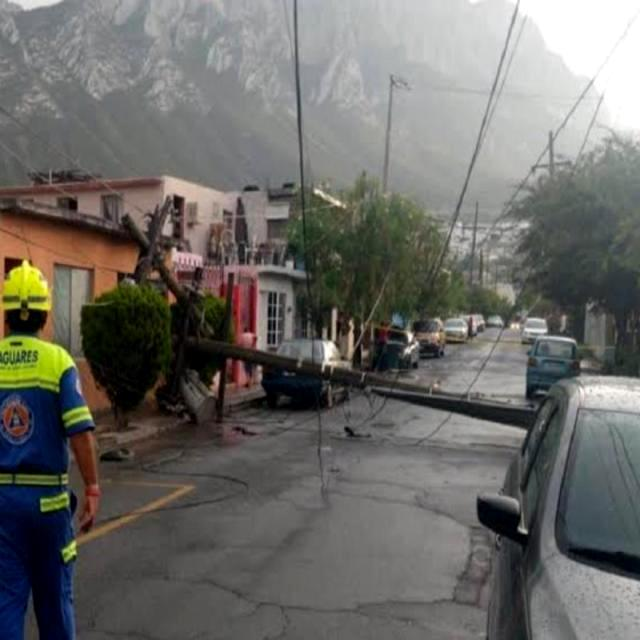Broken Pole: (122, 196, 535, 429)
